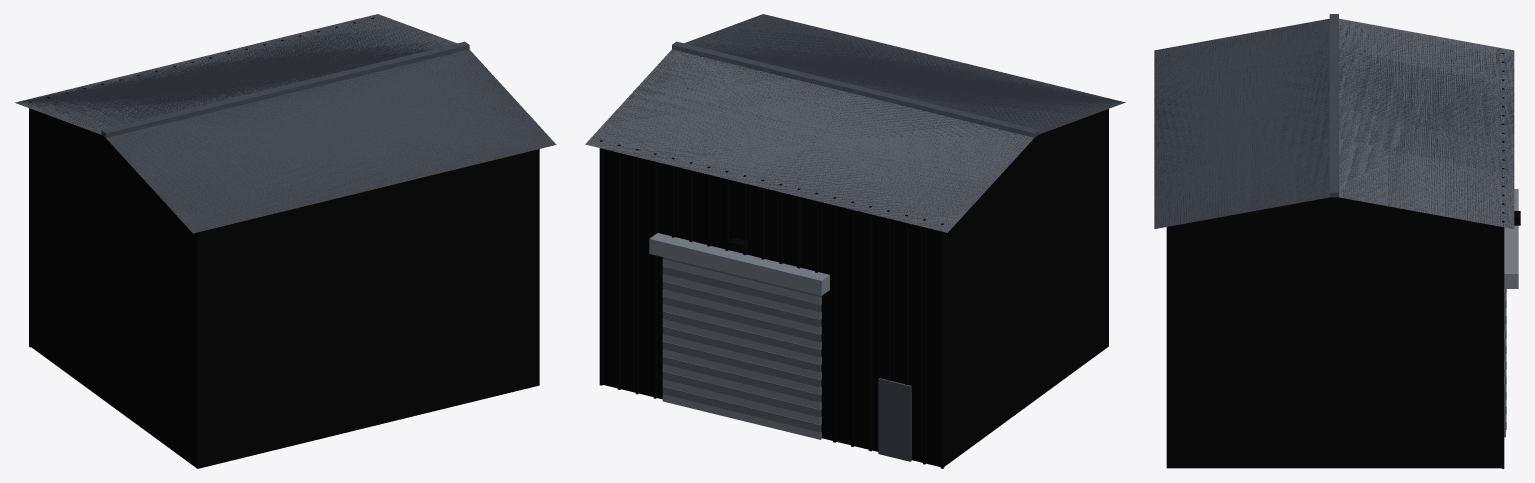
Rendered from Warehouse.fbx.
The picture shows the model from 3 angles, left to right: view 1: azimuth 30°, elevation 25°; view 2: azimuth 150°, elevation 25°; view 3: azimuth 270°, elevation 25°; orthographic projection.
Visible parts, largest first — view 1: Body.010, Roof.003, Gables.003, Ribs; view 2: Body.010, Roof.003, BigShutter, Ribs, SideDoor, Gables.003; view 3: Body.010, Roof.003, Gables.003, BigShutter, Ribs.
Part boxes in pixels (x1=…): Body.010: x1=31, y1=109, x2=539, y2=468; Roof.003: x1=15, y1=14, x2=556, y2=233; Gables.003: x1=50, y1=116, x2=156, y2=193; Ribs: x1=29, y1=18, x2=373, y2=347; Body.010: x1=603, y1=109, x2=1108, y2=466; Roof.003: x1=585, y1=14, x2=1125, y2=232; BigShutter: x1=649, y1=233, x2=829, y2=439; Ribs: x1=599, y1=140, x2=944, y2=468; SideDoor: x1=878, y1=378, x2=911, y2=461; Gables.003: x1=983, y1=116, x2=1089, y2=193; Body.010: x1=1166, y1=221, x2=1501, y2=468; Roof.003: x1=1154, y1=14, x2=1514, y2=228; Gables.003: x1=1197, y1=197, x2=1471, y2=221; BigShutter: x1=1504, y1=189, x2=1518, y2=437; Ribs: x1=1502, y1=53, x2=1504, y2=468.
Size of the model in its own units: 10.1 by 7.4 by 8.75.
